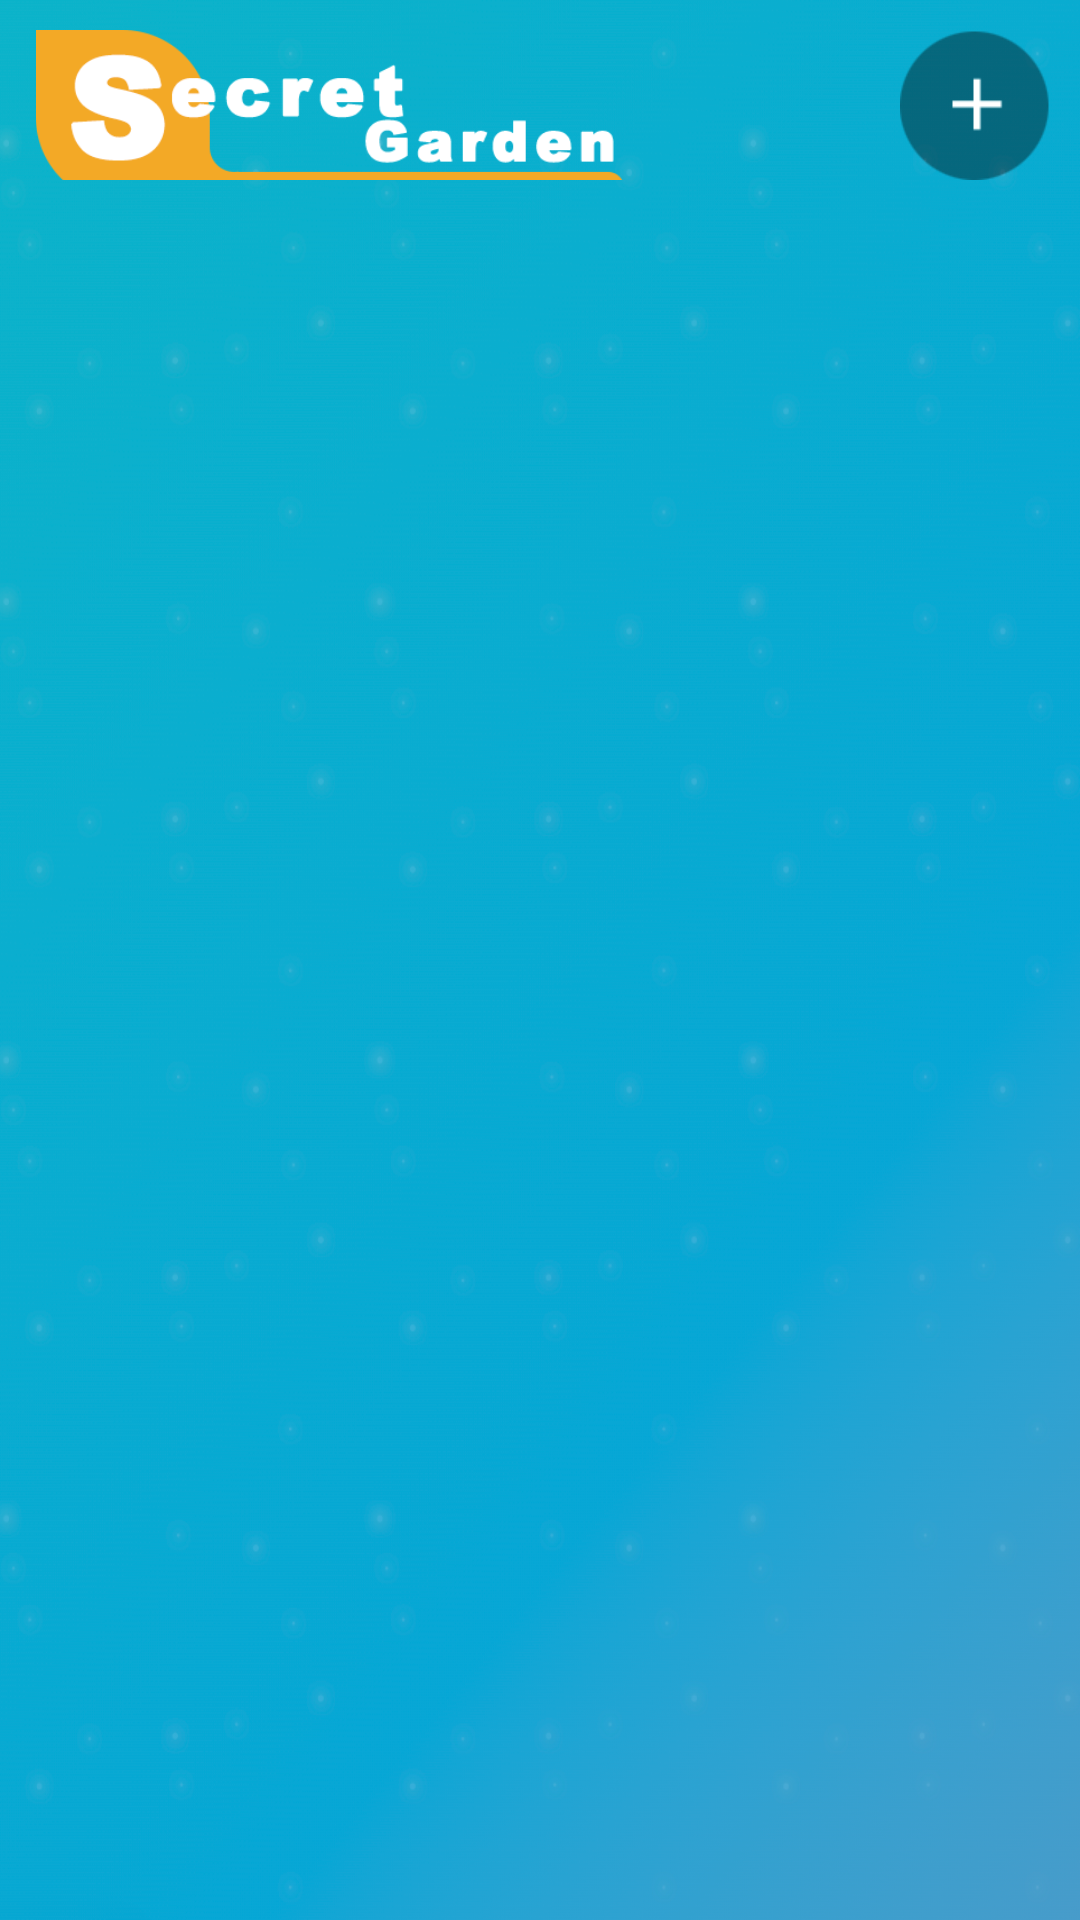

Icon click points for this 1080×1920 phone screenshot, format (x,y):
add: (974,105)
